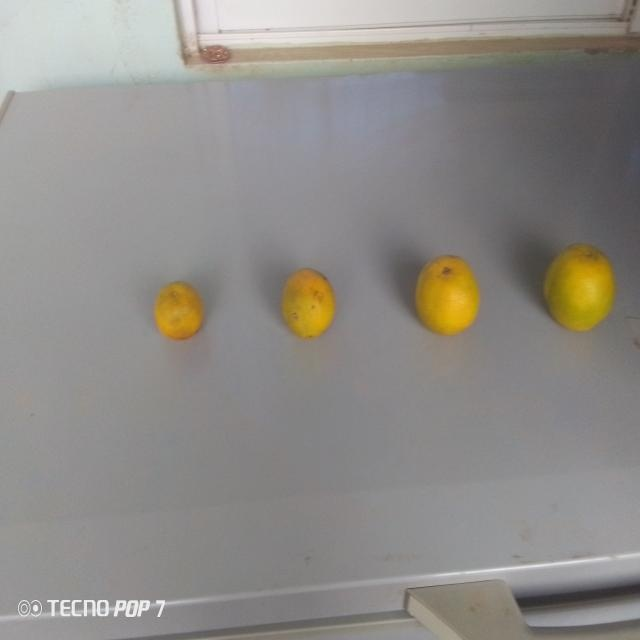agrume: (539, 242, 615, 342), (416, 248, 486, 344), (150, 273, 208, 353), (280, 263, 337, 342)
